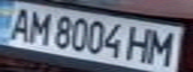0: (66, 16, 90, 53), (87, 18, 109, 56)
4: (103, 20, 127, 60)
8: (48, 12, 75, 50)
A: (3, 6, 36, 42)
H: (124, 24, 154, 63)
M: (145, 28, 181, 67), (21, 8, 54, 45)
